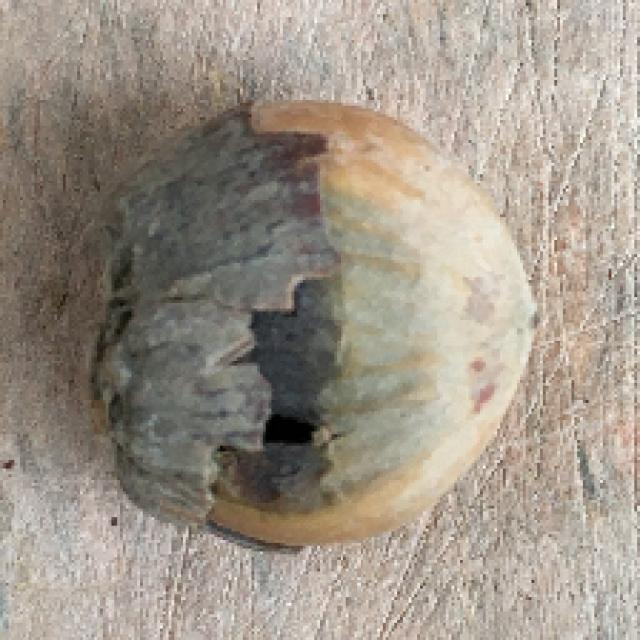damagedHazelnut: (92, 88, 539, 547)
